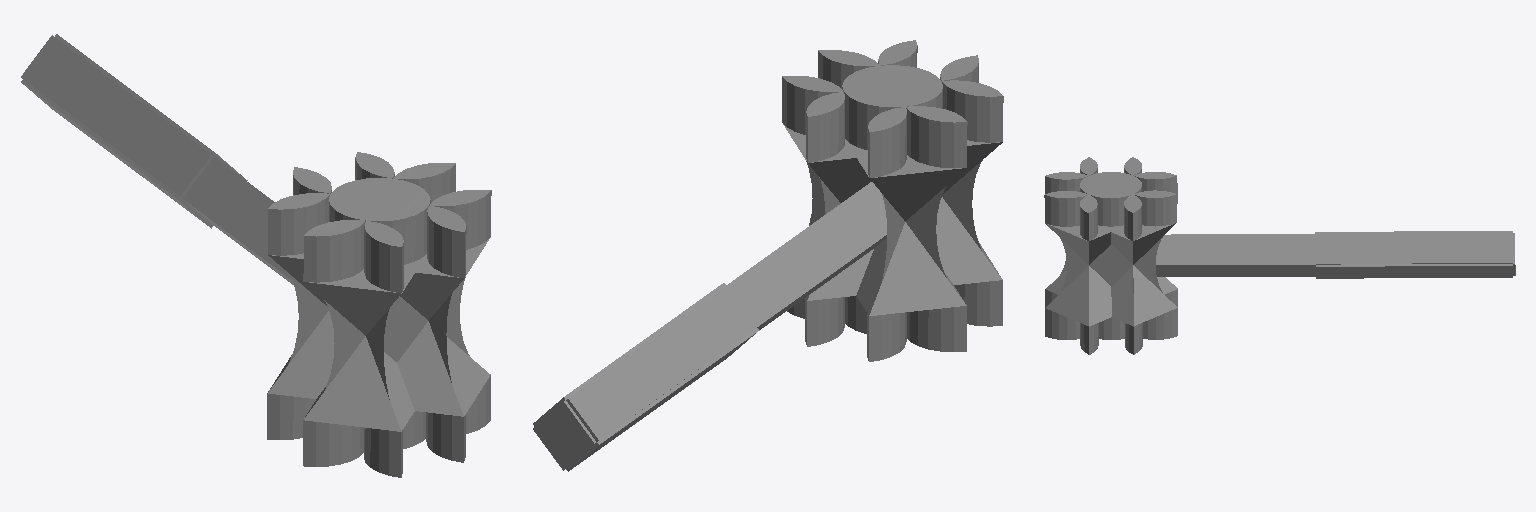
URDF robot description (cube.urdf):
<?xml version="0.0" ?> 
<robot name="cube.urdf"> 
<link name="legobrick"> 
<contact> 
<lateral_friction value="1.0"/>
<rolling_friction value="0.0"/>
<contact_cfm value="0.0"/>
<contact_erp value="1.0"/>
</contact> 
<inertial> 
<origin rpy="0 0 0" xyz="0.0 0.0 0.0"/> 
<mass value="0.1"/> 
<inertia ixx="1" ixy="0" ixz="0" iyy="1" iyz="0" izz="1"/> 
</inertial> 
<visual> 
<origin rpy="1.570796 0 0" xyz="-7.008771929826687e-06 0.04021959883040943 -1.530877192982475e-05"/> 
<geometry> 
<mesh filename="6ed8841f75fe0b87eb5d382c7eb13b28_1.obj" scale="1 1 1"/> 
</geometry> 
<material name="yellow"> 
<color rgba="0.6 0.6 0.6 1"/> 
</material> 
</visual> 
<collision> 
<origin rpy="1.570796 0 0" xyz="-7.008771929826687e-06 0.04021959883040943 -1.530877192982475e-05"/> 
<geometry> 
<mesh filename="6ed8841f75fe0b87eb5d382c7eb13b28_1_col.obj" scale="1 1 1"/> 
</geometry> 
</collision> 
</link> 
</robot>

--- Render facts (derived) ---
Views: 3 orthographic renders of the robot side by side, from view 1: azimuth 30°, elevation 25°; view 2: azimuth 150°, elevation 25°; view 3: azimuth 270°, elevation 25°.
Robot: cube.urdf — 1 links, 0 joints (none); root link legobrick; default pose: every joint at zero.
Links seen in each view (by area): view 1: legobrick; view 2: legobrick; view 3: legobrick.
Link boxes in pixels (left/top/right/bottom): legobrick: left=21, top=34, right=491, bottom=477; legobrick: left=533, top=40, right=1003, bottom=471; legobrick: left=1044, top=157, right=1515, bottom=354.
Bounding box of the posed robot: 0.038 × 0.1348 × 0.045 m (x, y, z).
1 mesh visuals loaded from 1 distinct referenced files (1 OBJ).